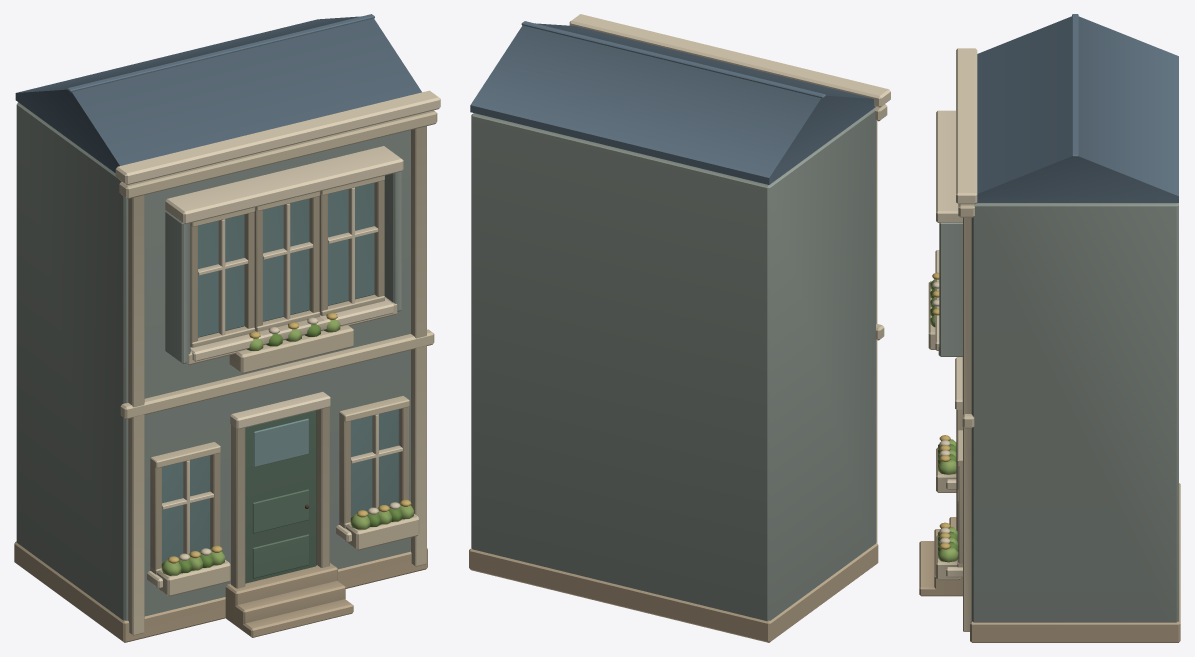
Rendered from facade_generic_0.glb.
The picture shows the model from 3 angles, left to right: view 1: azimuth 30°, elevation 25°; view 2: azimuth 150°, elevation 25°; view 3: azimuth 270°, elevation 25°; orthographic projection. The views are drawn at different scales.
Parts seen in each view (by area): view 1: facade_generic_0; view 2: facade_generic_0; view 3: facade_generic_0.
Part boxes in pixels (left/top/right/bottom): facade_generic_0: left=14, top=14, right=440, bottom=642; facade_generic_0: left=469, top=14, right=890, bottom=642; facade_generic_0: left=919, top=14, right=1180, bottom=642.
Bounding box in the file's own units: 4.18 × 6.51 × 3.15.
